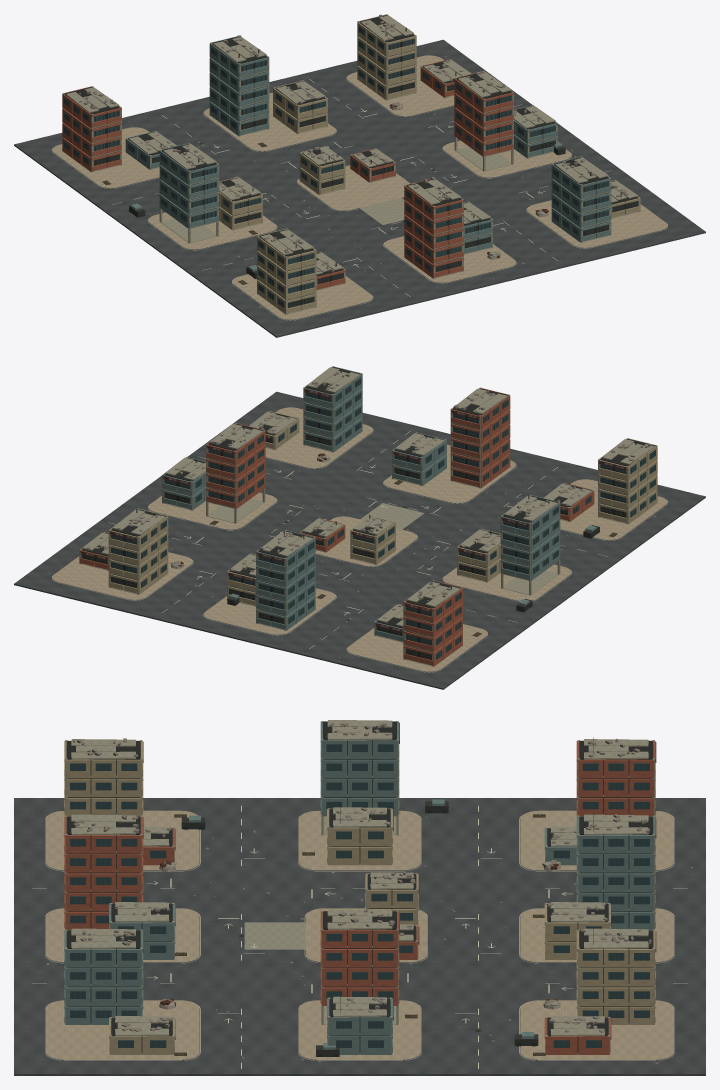
The model's file is shanghai-fase01.glb.
The picture shows the model from 3 angles, top to bottom: view 1: azimuth 30°, elevation 25°; view 2: azimuth 150°, elevation 25°; view 3: azimuth 270°, elevation 25°; orthographic projection. The views are drawn at different scales.
Visible parts, largest first — view 1: SETOR_11_asfalto, SETOR_12_terracota, SETOR_10_azul, SETOR_01_azul, SETOR_21_concreto, SETOR_22_azul, SETOR_02_bege, SETOR_00_terracota, SETOR_20_bege, SETOR_21_terracota, SETOR_01_concreto, SETOR_11_calcada (+45 smaller); view 2: SETOR_11_asfalto, SETOR_10_azul, SETOR_12_terracota, SETOR_01_azul, SETOR_21_concreto, SETOR_20_bege, SETOR_00_terracota, SETOR_02_bege, SETOR_21_terracota, SETOR_22_azul, SETOR_01_concreto, SETOR_00_calcada (+43 smaller); view 3: SETOR_11_asfalto, SETOR_10_azul, SETOR_12_terracota, SETOR_22_calcada, SETOR_20_bege, SETOR_22_azul, SETOR_20_calcada, SETOR_01_azul, SETOR_21_terracota, SETOR_00_terracota, SETOR_02_bege, SETOR_01_calcada (+43 smaller).
Boxes of the visible parts, <box> form: SETOR_11_asfalto: <box>14,39,705,337</box>; SETOR_12_terracota: <box>404,179,463,278</box>; SETOR_10_azul: <box>209,36,268,136</box>; SETOR_01_azul: <box>131,143,219,228</box>; SETOR_21_concreto: <box>454,70,557,171</box>; SETOR_22_azul: <box>551,157,611,242</box>; SETOR_02_bege: <box>257,229,316,314</box>; SETOR_00_terracota: <box>62,86,121,172</box>; SETOR_20_bege: <box>357,14,416,99</box>; SETOR_21_terracota: <box>454,73,513,156</box>; SETOR_01_concreto: <box>159,142,262,243</box>; SETOR_11_calcada: <box>297,165,410,210</box>; SETOR_11_asfalto: <box>14,391,705,689</box>; SETOR_10_azul: <box>229,530,315,630</box>; SETOR_12_terracota: <box>451,388,510,488</box>; SETOR_01_azul: <box>500,495,560,605</box>; SETOR_21_concreto: <box>162,422,265,523</box>; SETOR_20_bege: <box>108,509,168,594</box>; SETOR_00_terracota: <box>403,581,462,666</box>; SETOR_02_bege: <box>598,438,657,524</box>; SETOR_21_terracota: <box>206,423,265,508</box>; SETOR_22_azul: <box>303,366,362,451</box>; SETOR_01_concreto: <box>457,494,560,595</box>; SETOR_00_calcada: <box>347,624,487,671</box>; SETOR_11_asfalto: <box>14,798,705,1075</box>; SETOR_10_azul: <box>576,816,655,929</box>; SETOR_12_terracota: <box>64,816,143,929</box>; SETOR_22_calcada: <box>46,1000,199,1059</box>; SETOR_20_bege: <box>576,930,655,1024</box>; SETOR_22_azul: <box>64,930,143,1024</box>; SETOR_20_calcada: <box>520,1000,673,1059</box>; SETOR_01_azul: <box>320,721,444,816</box>; SETOR_21_terracota: <box>320,911,399,1005</box>; SETOR_00_terracota: <box>576,740,655,816</box>; SETOR_02_bege: <box>64,740,143,816</box>; SETOR_01_calcada: <box>299,810,420,870</box>.
Bounding box in the file's own units: 102 × 17.85 × 108.
Materials: 15 (11 with a texture image).
